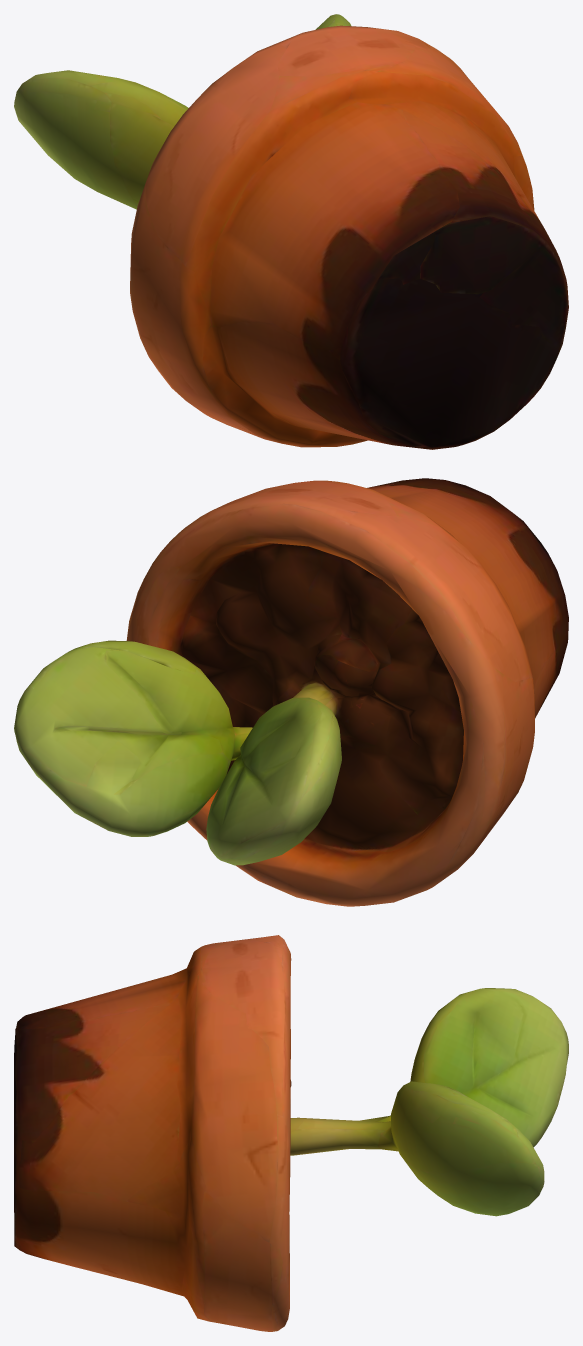
The picture shows the model from 3 angles, top to bottom: view 1: azimuth 30°, elevation 25°; view 2: azimuth 150°, elevation 25°; view 3: azimuth 270°, elevation 25°; orthographic projection. The views are drawn at different scales.
Parts seen in each view (by area): view 1: material; view 2: material; view 3: material.
Part boxes in pixels (x1=…): material: x1=14, y1=14, x2=568, y2=449; material: x1=14, y1=478, x2=568, y2=906; material: x1=14, y1=935, x2=568, y2=1331.
Bounding box in the file's own units: 0.7087 × 0.7127 × 1.
Materials: 1 (1 with a texture image).
